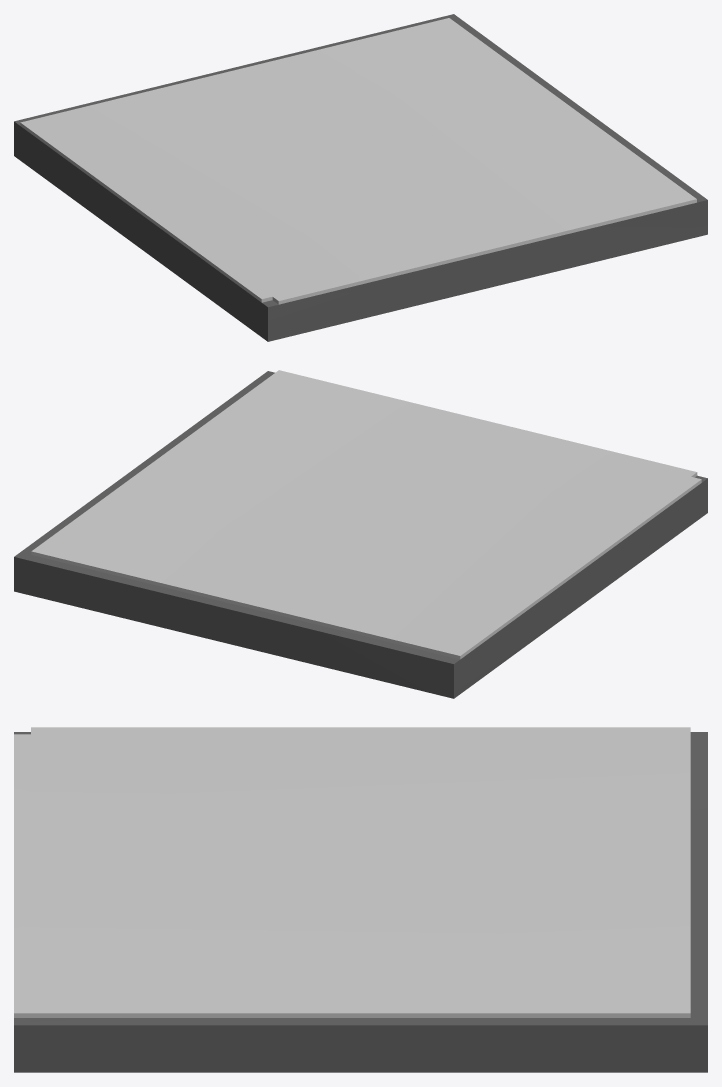
The model's file is StationFloorCorner.fbx.
3 renders of one model, top to bottom at view 1: azimuth 30°, elevation 25°; view 2: azimuth 150°, elevation 25°; view 3: azimuth 270°, elevation 25°, orthographic. The views are drawn at different scales.
Visible parts, largest first — view 1: Cube.014; view 2: Cube.014; view 3: Cube.014.
Part boxes in pixels (x1,y1,x2,y2): Cube.014: (14, 14, 707, 341); Cube.014: (14, 370, 707, 698); Cube.014: (14, 727, 707, 1072).
Size of the model in its own units: 240 by 19.89 by 240.
